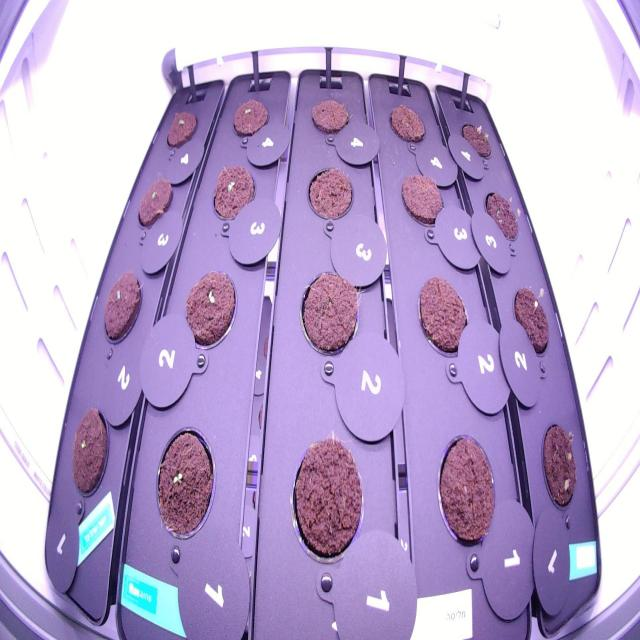germination: (146, 418, 223, 553), (180, 262, 240, 366), (537, 416, 583, 518), (207, 158, 261, 233), (510, 282, 554, 367), (479, 181, 529, 253), (228, 92, 272, 146), (455, 113, 497, 168)
pod: (284, 421, 372, 574), (432, 420, 506, 557), (410, 255, 476, 381), (297, 262, 364, 364), (65, 398, 115, 512), (98, 261, 148, 347), (394, 160, 449, 237), (301, 157, 357, 232), (132, 167, 177, 238), (382, 92, 433, 152), (306, 90, 352, 142), (162, 103, 202, 157)
